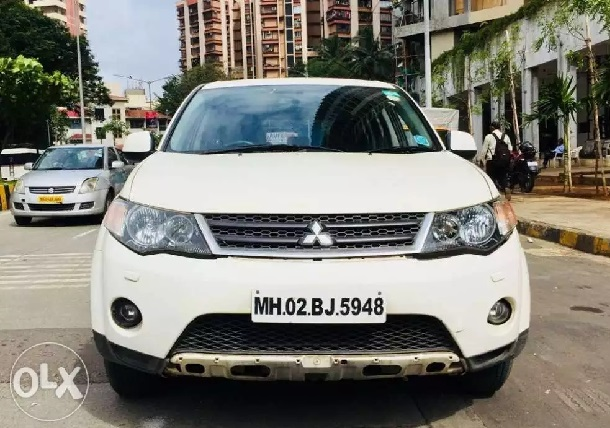licenseplate: (251, 284, 390, 328)
